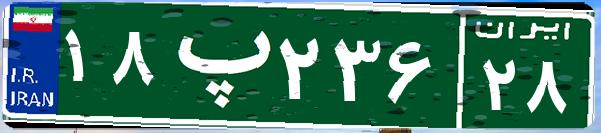1: (57, 26, 110, 107)
2: (273, 28, 330, 110), (475, 38, 525, 113)
3: (330, 28, 385, 110)
6: (385, 28, 445, 110)
8: (110, 28, 158, 105), (525, 38, 570, 115)
پ: (158, 15, 273, 115)
